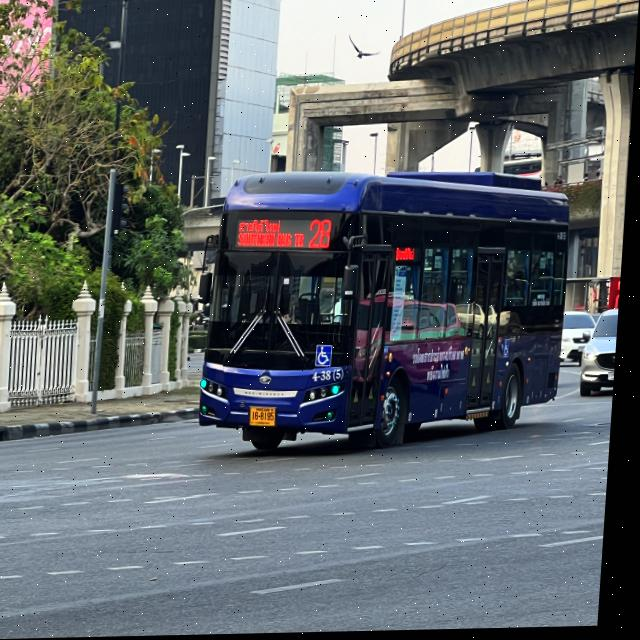Bus-Line-Number: (310, 217, 338, 253)
Destination-Sign-Normal: (237, 217, 311, 253)
TSB-Bus: (201, 168, 578, 457)
